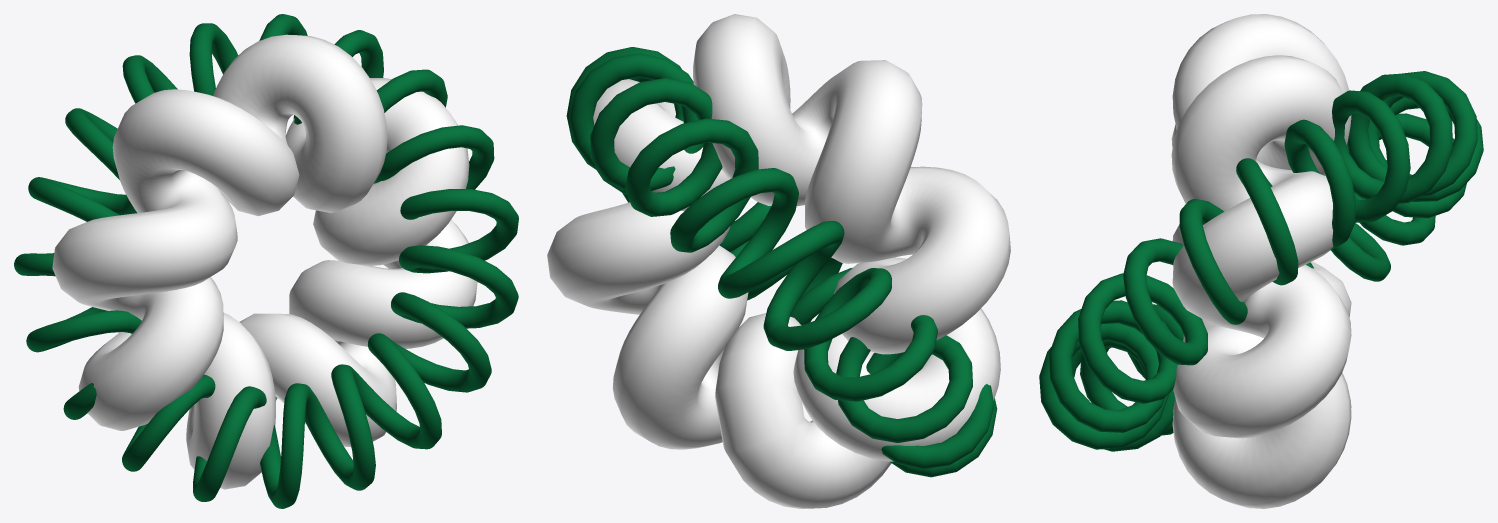
The model's file is Hair_ring.glb.
The picture shows the model from 3 angles, left to right: view 1: azimuth 30°, elevation 25°; view 2: azimuth 150°, elevation 25°; view 3: azimuth 270°, elevation 25°; orthographic projection. The views are drawn at different scales.
Parts seen in each view (by area): view 1: Hair_ring.001, Hair_ring_02.001; view 2: Hair_ring.001, Hair_ring_02.001; view 3: Hair_ring.001, Hair_ring_02.001.
Part boxes in pixels (x1,y1,x2,y2): Hair_ring.001: (52, 34, 477, 489); Hair_ring_02.001: (14, 14, 518, 508); Hair_ring.001: (547, 14, 1010, 508); Hair_ring_02.001: (566, 47, 997, 477); Hair_ring.001: (1171, 14, 1351, 508); Hair_ring_02.001: (1039, 71, 1483, 451).
Size of the model in its own units: 3.03 by 3.03 by 2.77.
